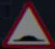Speed Breaker ahead: (5, 1, 47, 43)
